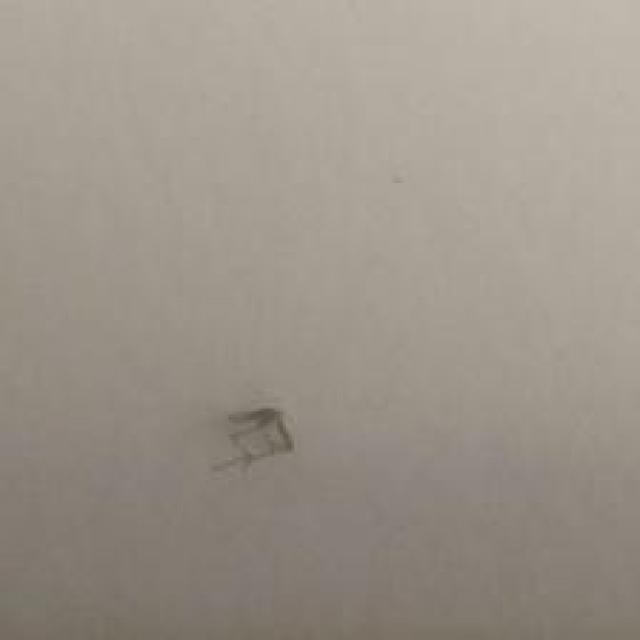Culex: (210, 406, 296, 477)
